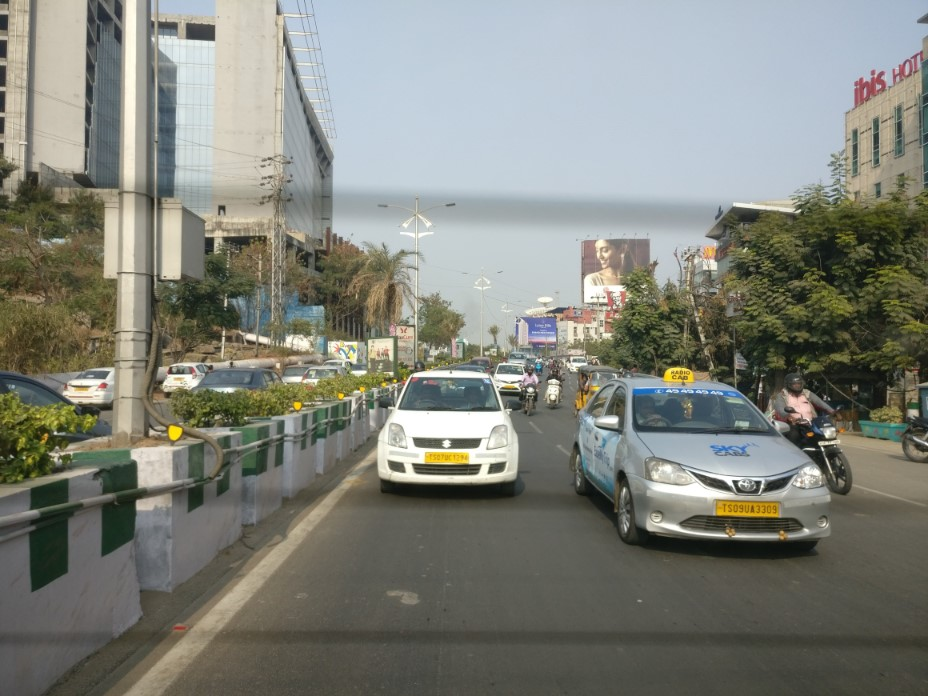swift desire: (376, 365, 519, 498)
